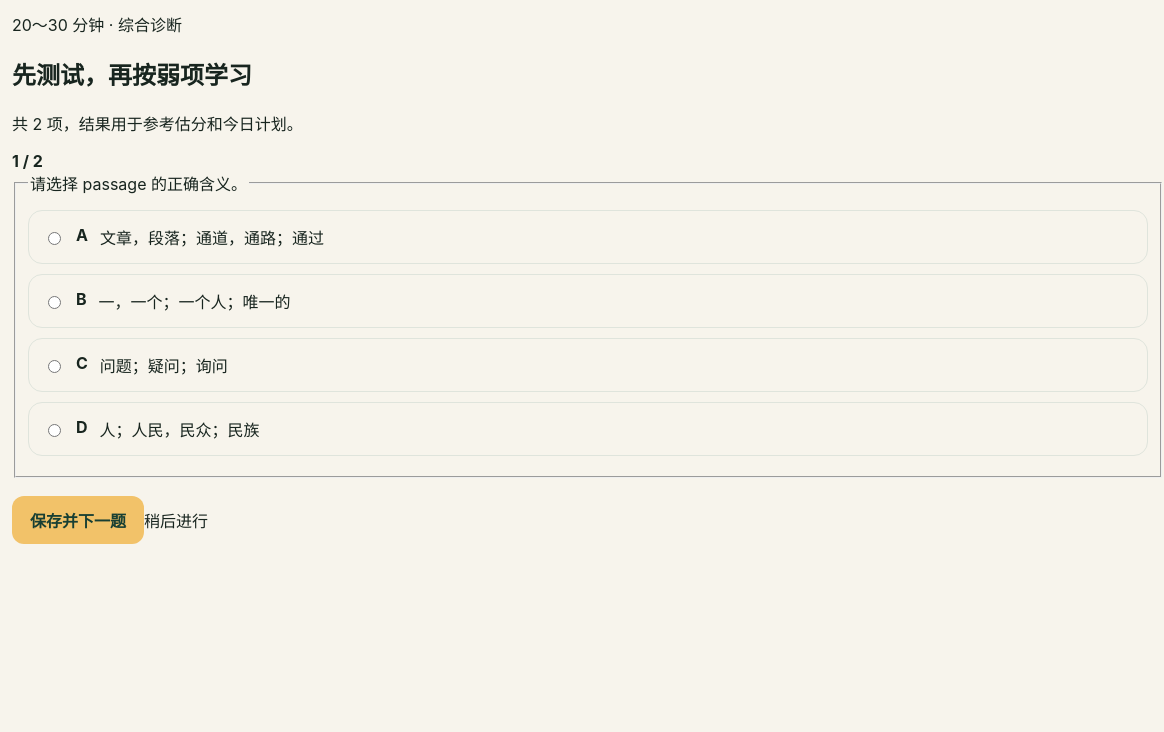
Test case: foundation diagnostic › shows both measured weak skills after a multi-skill diagnostic
The width and height of the screenshot is (1164, 732).
Click the radio button labelled "B 一，一个；一个人；唯一的": (54,303) [48,292,61,313]
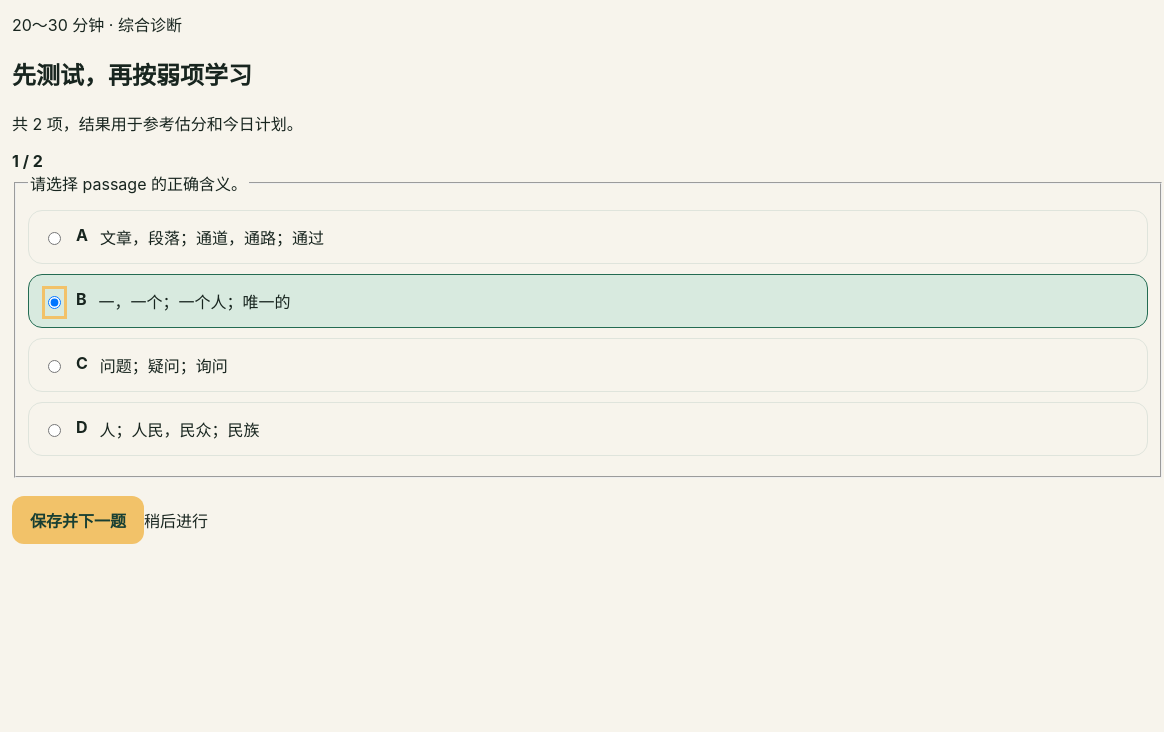
Click the button "保存并下一题": (78,520) [12,496,144,544]
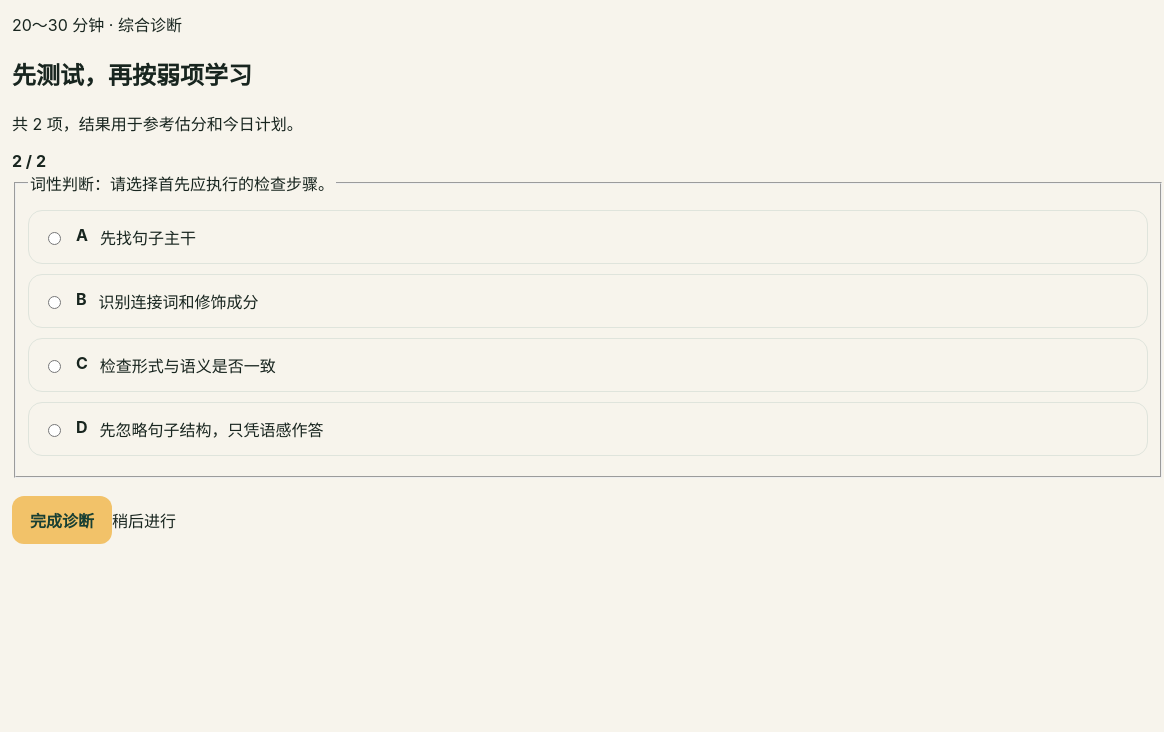
Click the radio button labelled "A 先找句子主干": (54,239) [48,228,61,249]
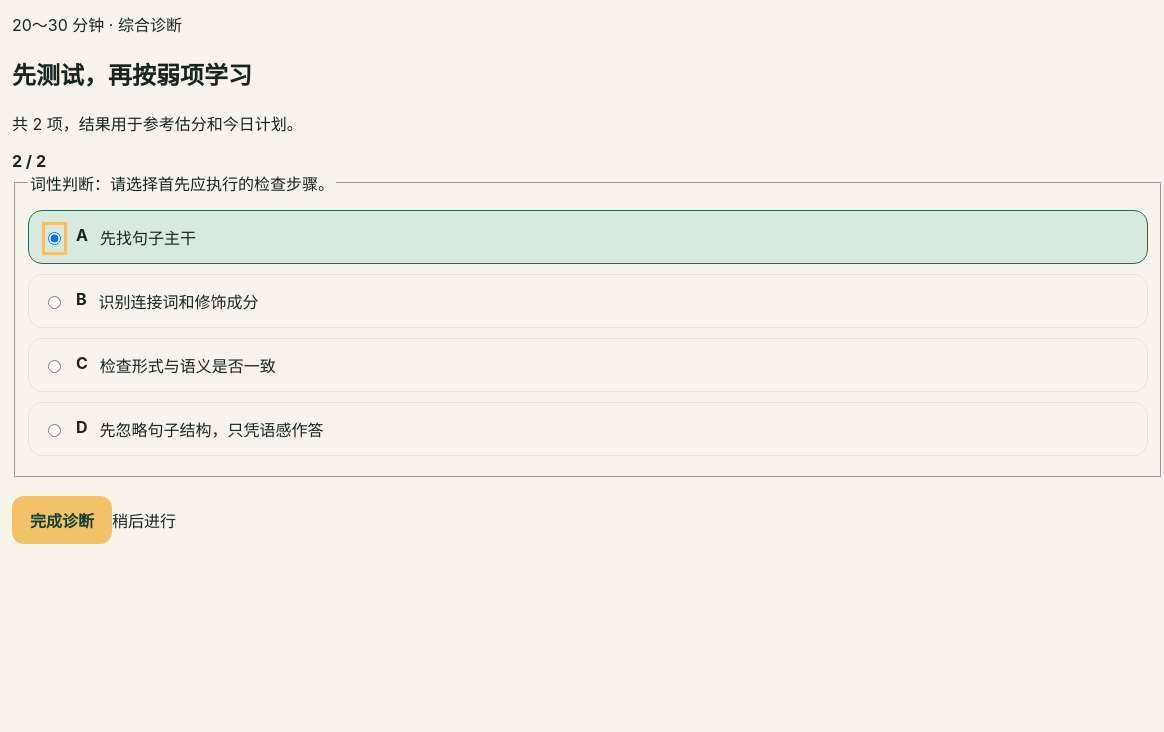
Click the button "完成诊断": (62,520) [12,496,112,544]
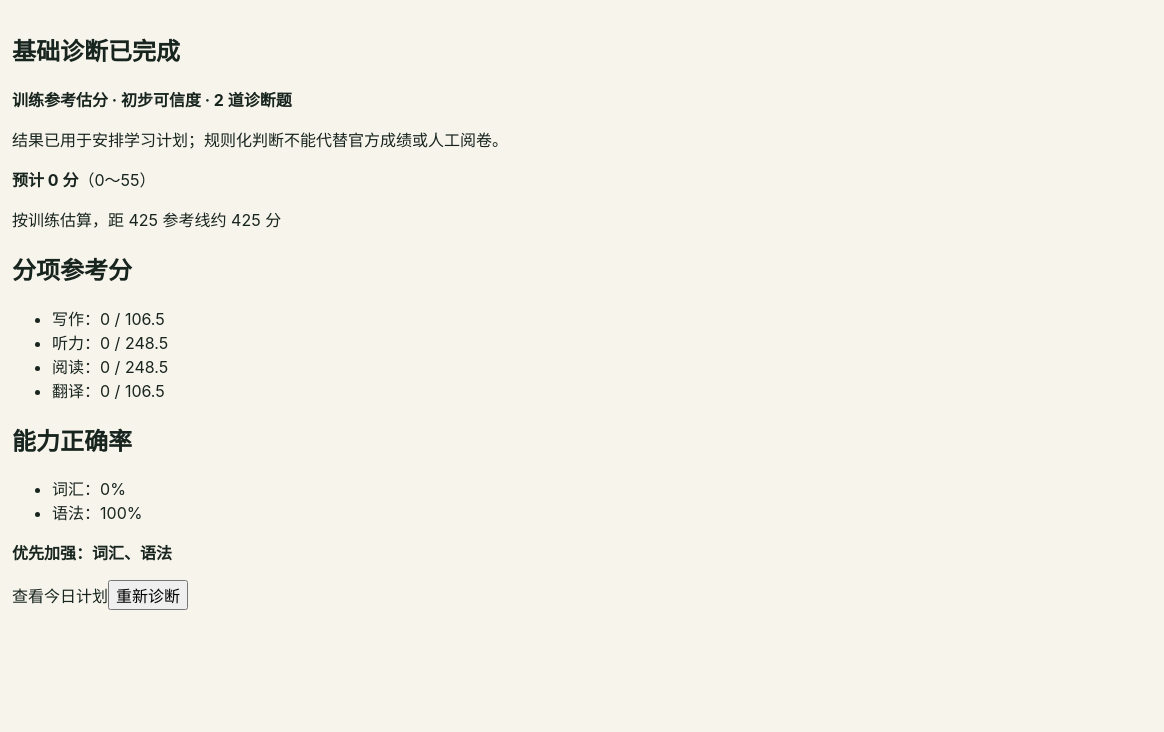
Expected: the text "优先加强：词汇、语法" is shown, [12,543,172,563]
